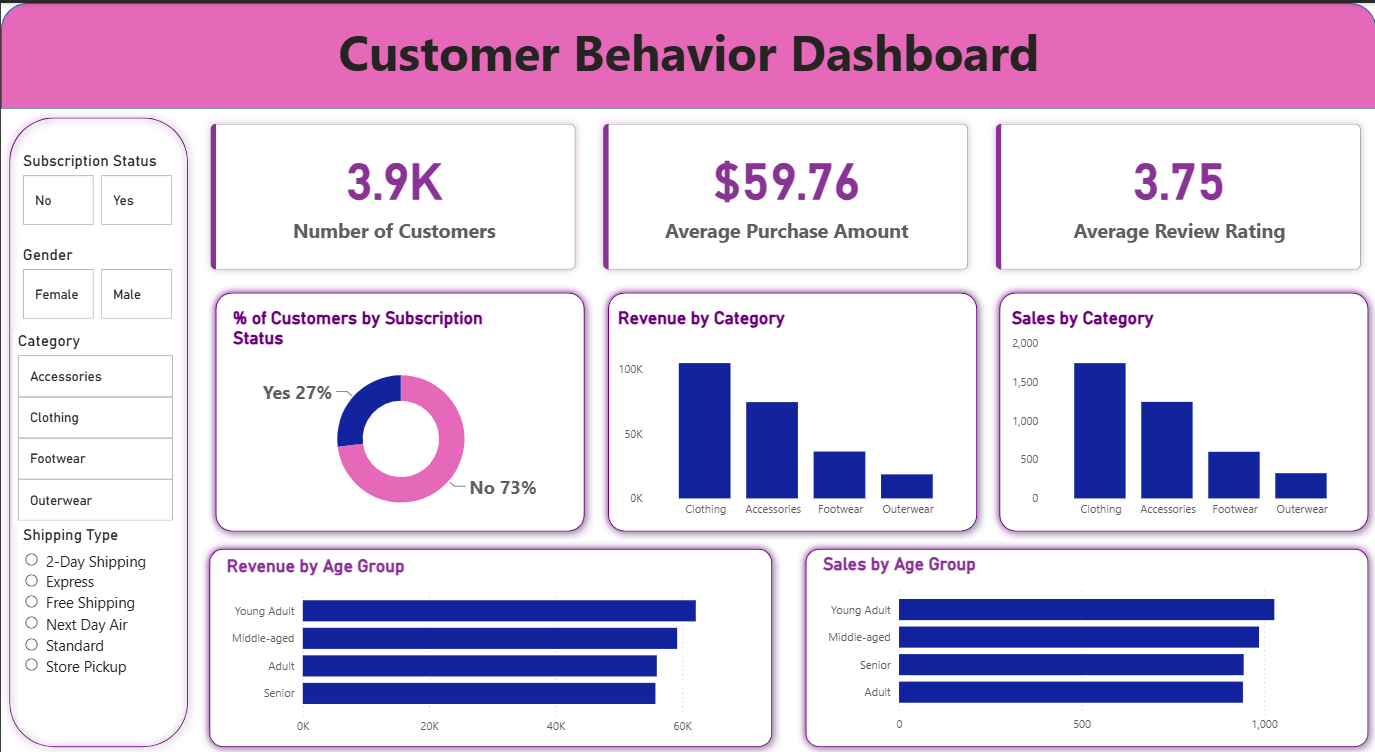

The page's visual inventory and layout, read from the dashboard file:
{"tool":"powerbi","page":{"name":"Page 1","canvas":[1500,820],"ordinal":0},"visuals":[{"type":"cardVisual","fields":{"Data":["public customer.Number of Customers","public customer.Average Purchase Amount","public customer.Average Review Rating"]},"box":[212.9,115.3,1286.5,191.6],"z":2000},{"type":"shape","box":[218.3,585.6,631.7,234.2],"z":2500,"group":"g1"},{"type":"shape","box":[0,0,1499.4,115.3],"z":3000},{"type":"textbox","box":[0,12.4,1499.4,102.9],"z":4000},{"type":"shape","box":[225.4,307,420.5,278.6],"z":5000},{"type":"donutChart","title":"% of Customers by Subscription Status","fields":{"Category":["public customer.subscription_status"],"Y":["CountNonNull(public customer.customer_id)"]},"box":[248.4,331.8,376.2,237.8],"z":6000},{"type":"shape","box":[1078.9,307,420.5,278.6],"z":7000},{"type":"shape","box":[652.1,307,420.5,278.6],"z":8000},{"type":"clusteredColumnChart","title":"Revenue by Category","fields":{"Y":["Sum(public customer.purchase_amount)"],"Category":["public customer.category"]},"box":[667.2,331.8,385.1,237.8],"z":9000},{"type":"clusteredColumnChart","title":"Sales by Category","fields":{"Y":["CountNonNull(public customer.customer_id)"],"Category":["public customer.category"]},"box":[1096.6,331.8,385.1,237.8],"z":10000},{"type":"shape","box":[0,115.3,212.9,704.5],"z":11000},{"type":"advancedSlicerVisual","fields":{"Values":["public customer.subscription_status"]},"box":[19.5,161.5,173.9,85.2],"z":12000},{"type":"advancedSlicerVisual","fields":{"Values":["public customer.gender"]},"box":[19.5,264.4,173.9,85.2],"z":13000},{"type":"advancedSlicerVisual","fields":{"Values":["public customer.category"]},"box":[13.6,358.4,179.9,211.2],"z":14000},{"type":"listSlicer","fields":{"Values":["public customer.shipping_type"]},"box":[19.5,569.6,168.6,220],"z":15000},{"type":"shape","box":[867.7,585.6,631.7,234.2],"z":16000},{"type":"clusteredBarChart","title":"Sales by Age Group","fields":{"Y":["CountNonNull(public customer.customer_id)"],"Category":["public customer.age_group"]},"box":[890.8,601.5,585.6,204.1],"z":17000},{"type":"clusteredBarChart","title":"Revenue by Age Group","fields":{"Y":["Sum(public customer.purchase_amount)"],"Category":["public customer.age_group"]},"box":[241.4,601.6,585.6,204.1],"z":17500,"group":"g1"},{"type":"group","id":"g1","title":"Group 1","box":[218.3,585.6,631.7,234.2],"z":17501}]}

Visuals, with their boxes in screenshot pixels (x1, y1, x2, y2), scaled from the page's 1500x820 canvas onto the 1375x752 screenshot:
cardVisual - public customer.Number of Customers x public customer.Average Purchase Amount: [left=195, top=106, right=1374, bottom=281]
shape: [left=200, top=537, right=779, bottom=751]
shape: [left=0, top=0, right=1374, bottom=106]
textbox: [left=0, top=11, right=1374, bottom=106]
shape: [left=207, top=282, right=592, bottom=537]
"% of Customers by Subscription Status" donutChart: [left=228, top=304, right=573, bottom=522]
shape: [left=989, top=282, right=1374, bottom=537]
shape: [left=598, top=282, right=983, bottom=537]
"Revenue by Category" clusteredColumnChart: [left=612, top=304, right=965, bottom=522]
"Sales by Category" clusteredColumnChart: [left=1005, top=304, right=1358, bottom=522]
shape: [left=0, top=106, right=195, bottom=751]
advancedSlicerVisual - public customer.subscription_status: [left=18, top=148, right=177, bottom=226]
advancedSlicerVisual - public customer.gender: [left=18, top=242, right=177, bottom=321]
advancedSlicerVisual - public customer.category: [left=12, top=329, right=177, bottom=522]
listSlicer - public customer.shipping_type: [left=18, top=522, right=172, bottom=724]
shape: [left=795, top=537, right=1374, bottom=751]
"Sales by Age Group" clusteredBarChart: [left=817, top=552, right=1353, bottom=739]
"Revenue by Age Group" clusteredBarChart: [left=221, top=552, right=758, bottom=739]
"Group 1" group: [left=200, top=537, right=779, bottom=751]
